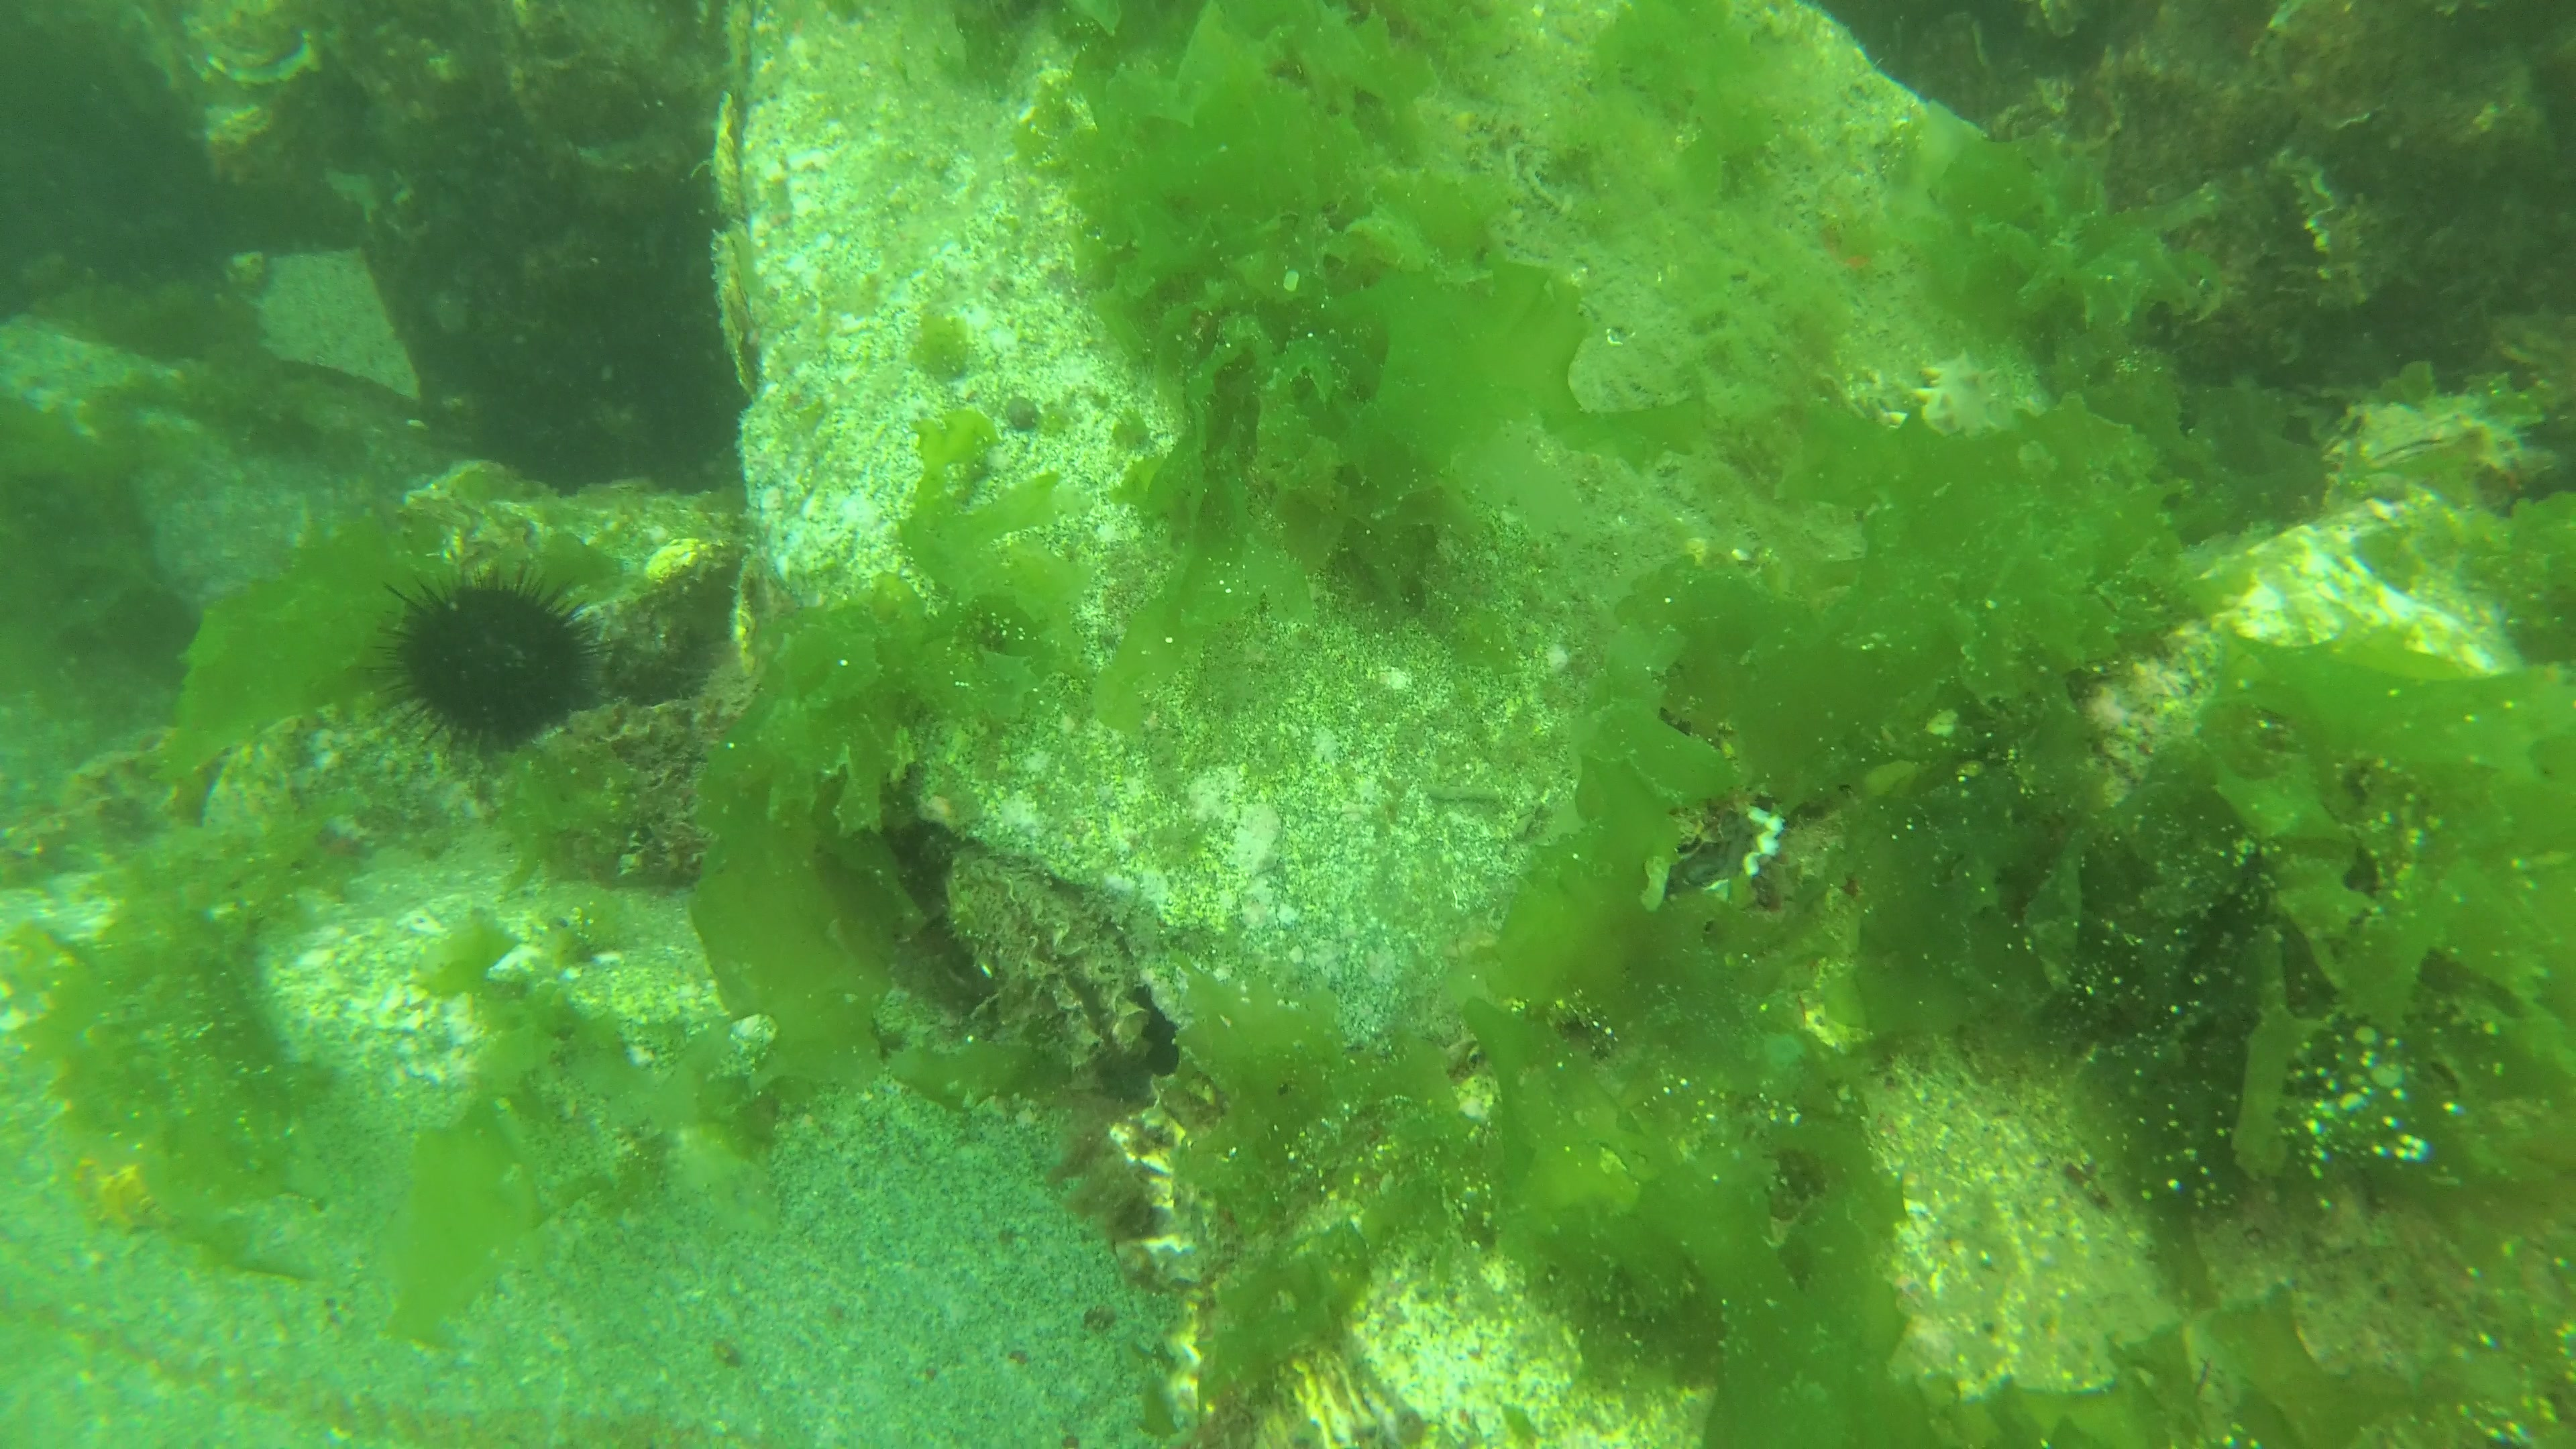echinus: (377, 561, 609, 766)
